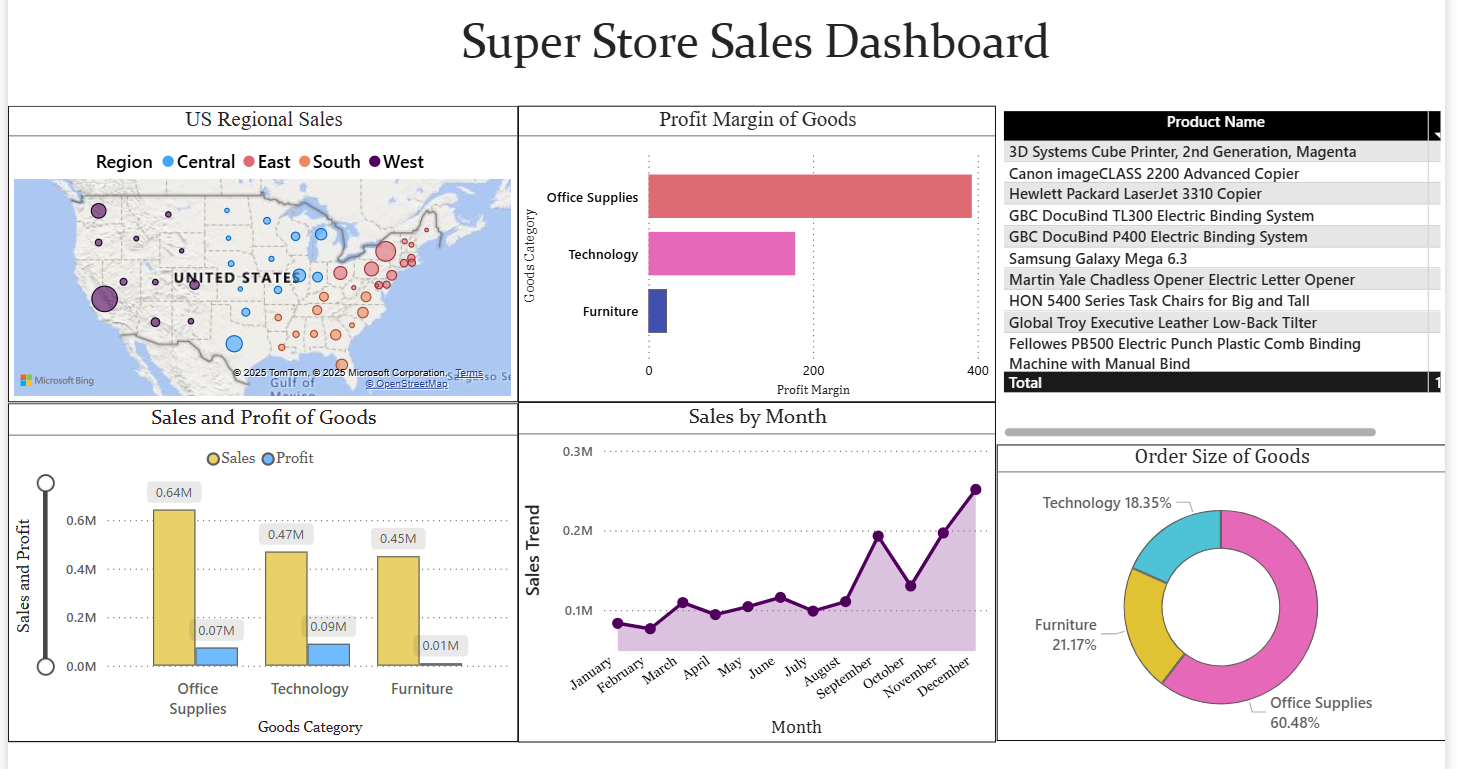

What the dashboard file says about the page in this screenshot:
{"tool":"powerbi","page":{"name":"Super Store","canvas":[1280,720],"ordinal":0},"visuals":[{"type":"map","title":"US Regional Sales","fields":{"Size":["Sum(Sheet1.Sales)"],"Series":["Sheet1.Region"],"Category":["Sheet1.State"]},"box":[0,124,454.3,264.3],"z":0},{"type":"clusteredColumnChart","title":"Sales and Profit of Goods","fields":{"Y":["Sum(Sheet1.Sales)","Sum(Sheet1.Profit)"],"Category":["Sheet1.Category"]},"box":[0,388.3,454.3,301.4],"z":1000},{"type":"barChart","title":"Profit Margin of Goods","fields":{"Y":["Sum(Sheet1.Profit Margin)"],"Category":["Sheet1.Category"]},"box":[454.3,124,425.7,264.3],"z":2000},{"type":"lineChart","title":"Sales by Month","fields":{"Y":["Sum(Sheet1.Sales)"],"Category":["Sheet1.Ship Date.Variation.Date Hierarchy.Month"]},"box":[454.3,386.9,425.7,302.9],"z":3000},{"type":"donutChart","title":"Order Size of Goods","fields":{"Y":["CountNonNull(Sheet1.Order Size Category)"],"Category":["Sheet1.Category"]},"box":[880,425.4,400,264.3],"z":4000},{"type":"tableEx","fields":{"Values":["Sheet1.Product Name","Sum(Sheet1.Sales)"]},"box":[880,124,400,300],"z":5000},{"type":"textbox","box":[370,34.3,592.9,68.6],"z":6000}]}

Visuals, with their boxes in screenshot pixels (x1, y1, x2, y2):
"US Regional Sales" map: (x1=0, y1=98, x2=514, y2=397)
"Sales and Profit of Goods" clusteredColumnChart: (x1=0, y1=397, x2=514, y2=738)
"Profit Margin of Goods" barChart: (x1=514, y1=98, x2=995, y2=397)
"Sales by Month" lineChart: (x1=514, y1=396, x2=995, y2=738)
"Order Size of Goods" donutChart: (x1=995, y1=439, x2=1447, y2=738)
tableEx - Sheet1.Product Name x Sum(Sheet1.Sales): (x1=995, y1=98, x2=1447, y2=438)
textbox: (x1=418, y1=0, x2=1089, y2=75)
